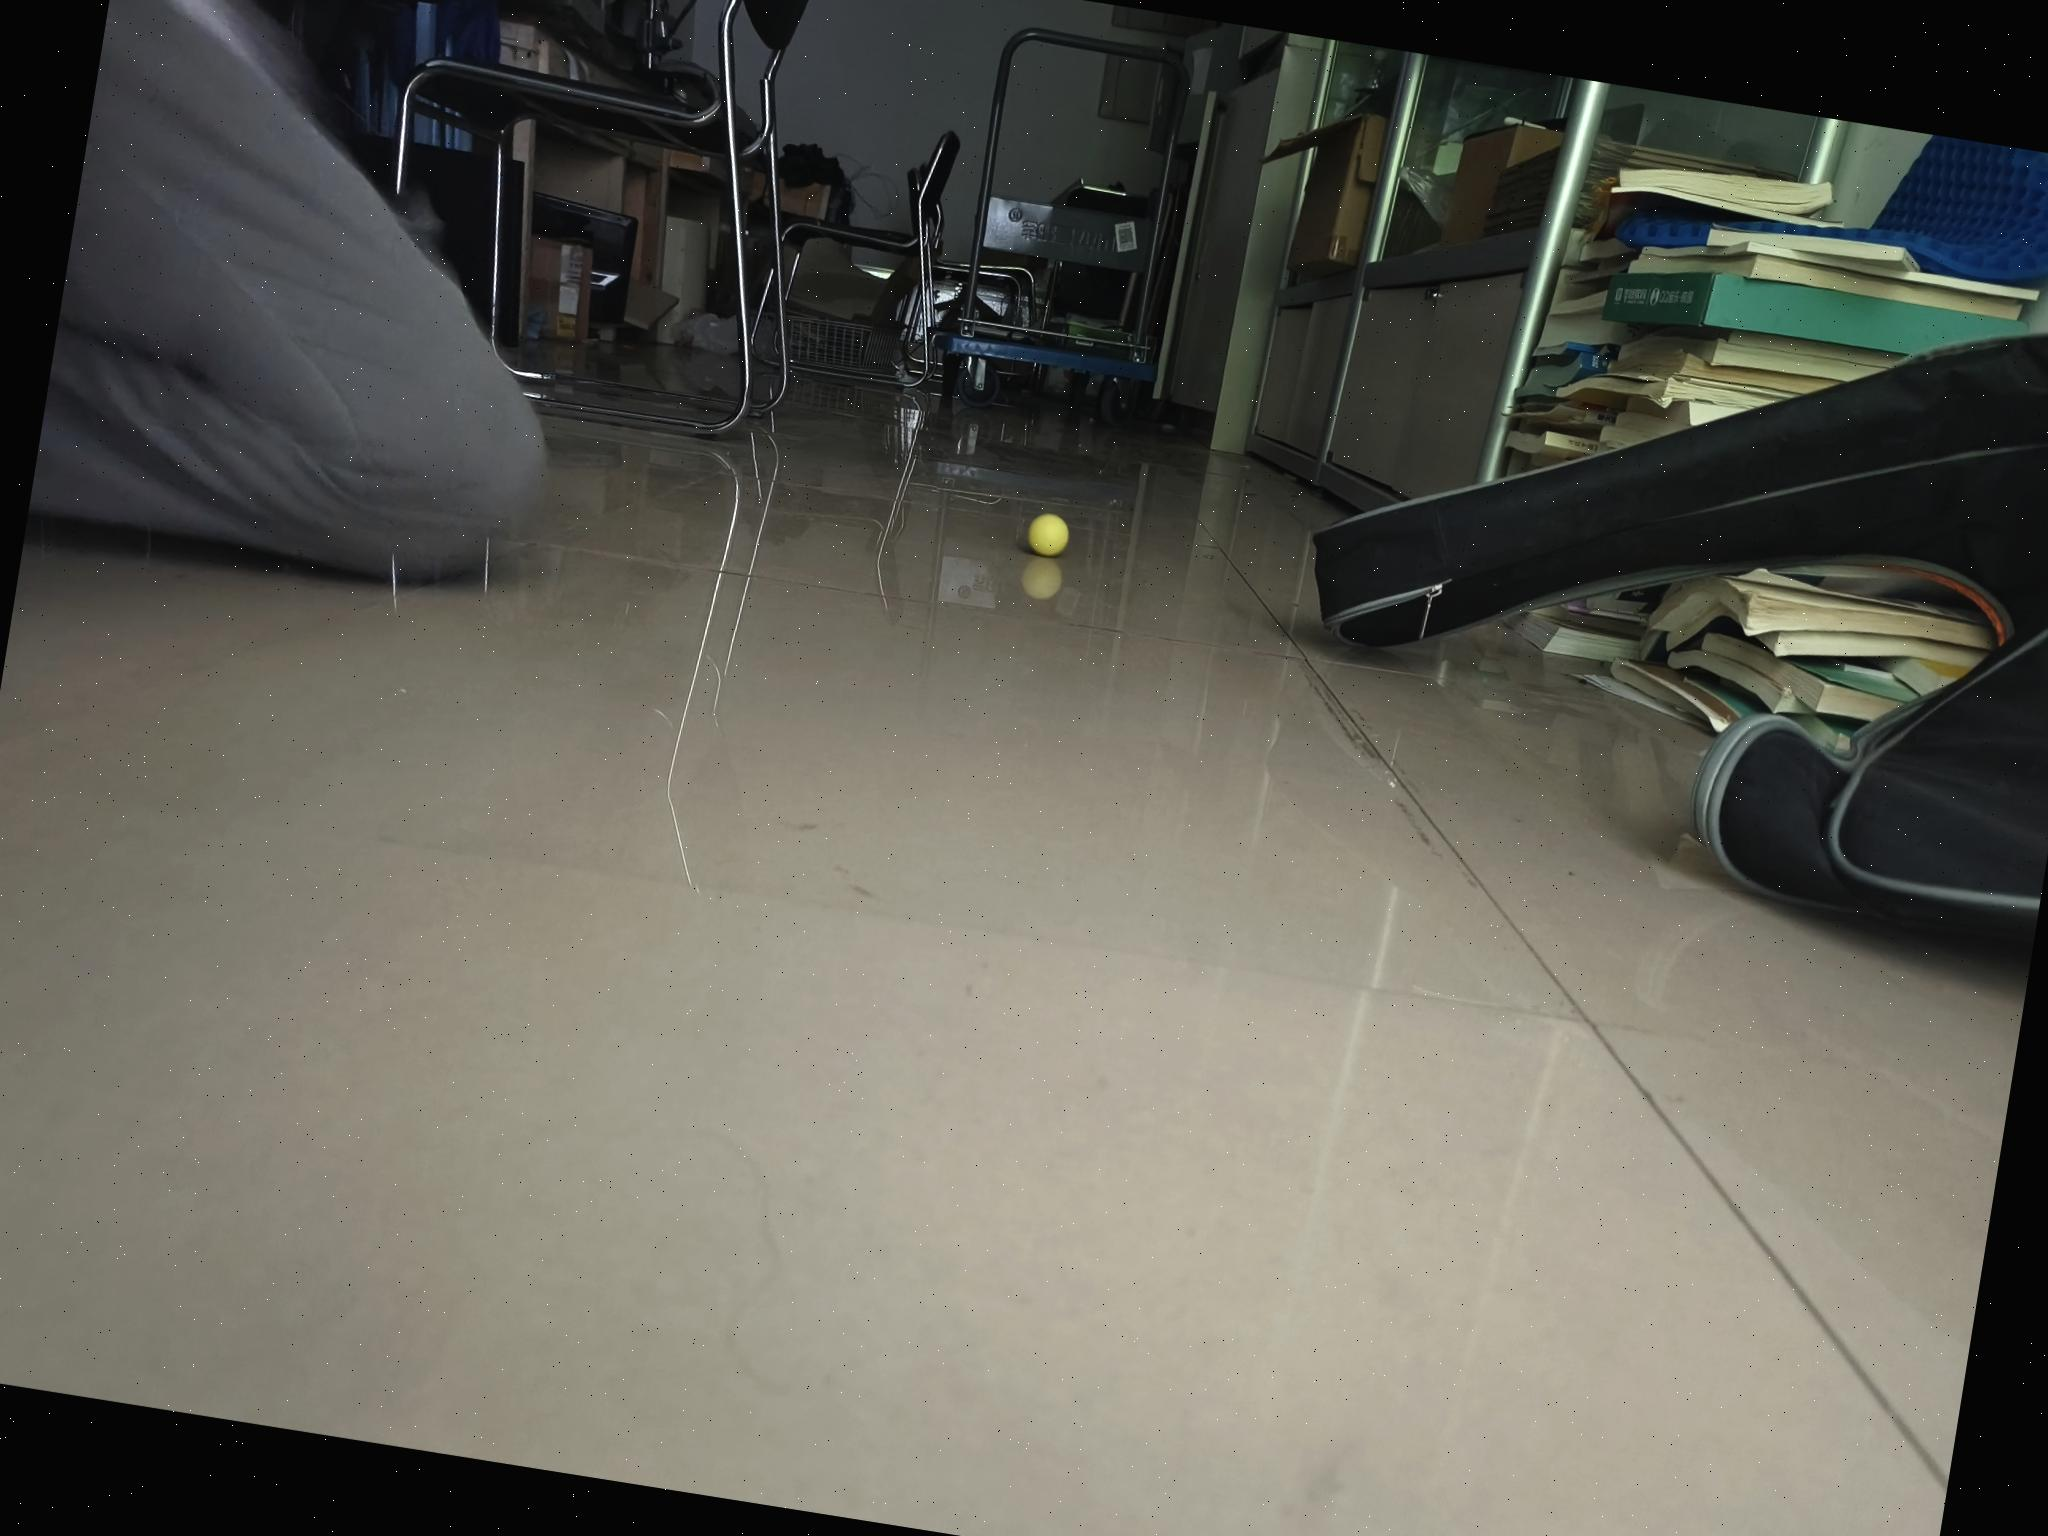ball: (1024, 509, 1072, 559)
